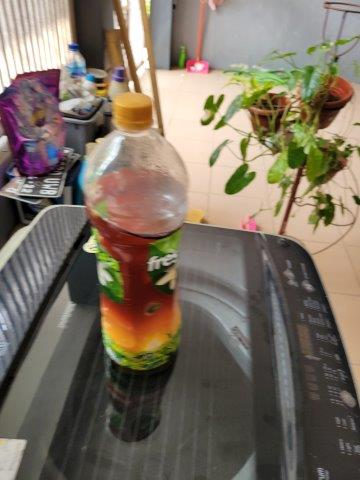botolplastik: (80, 95, 182, 369), (63, 42, 87, 88)
